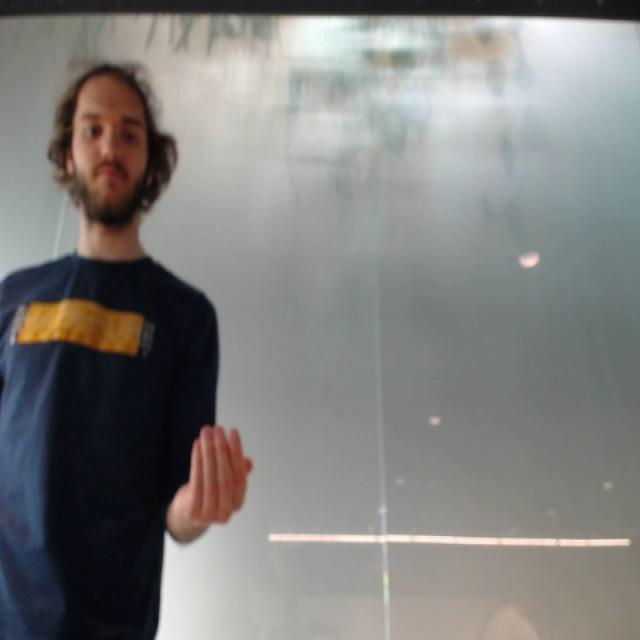forward: (176, 421, 256, 531)
